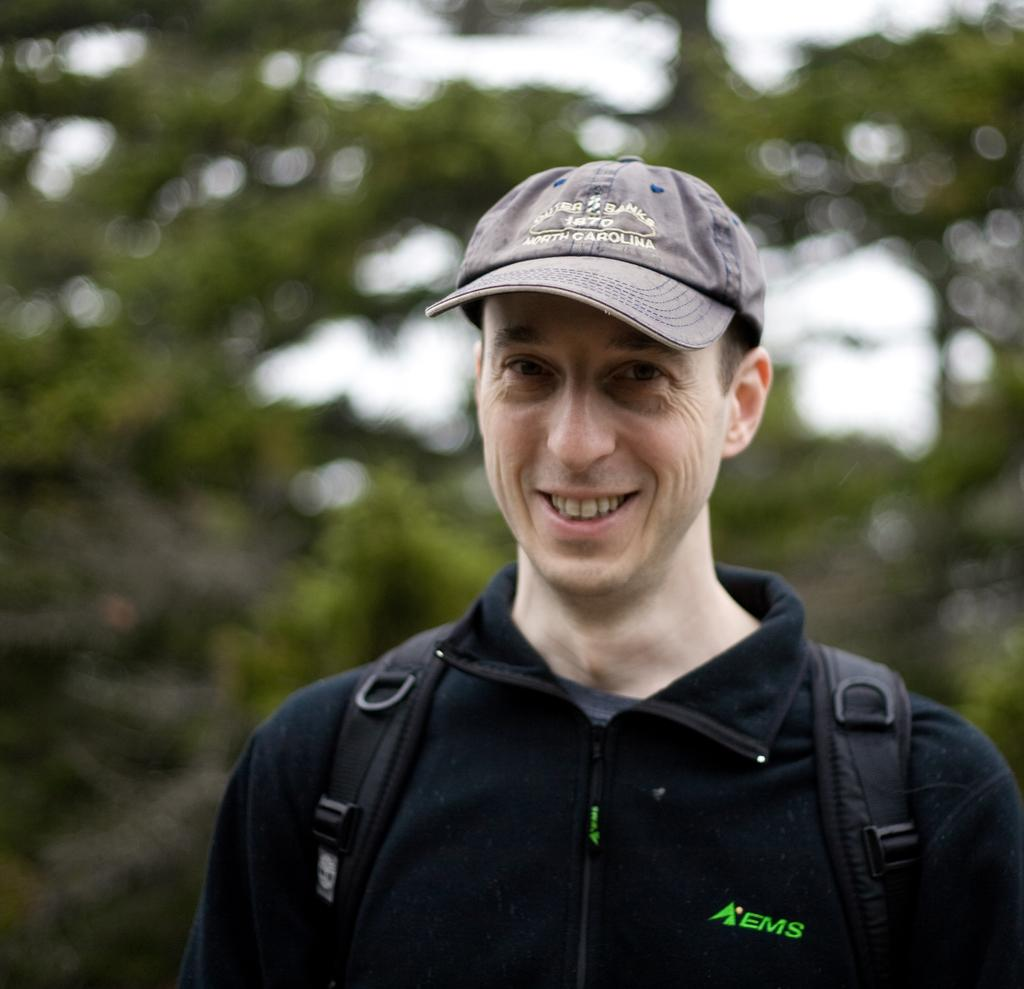Hat: (425, 154, 760, 356)
